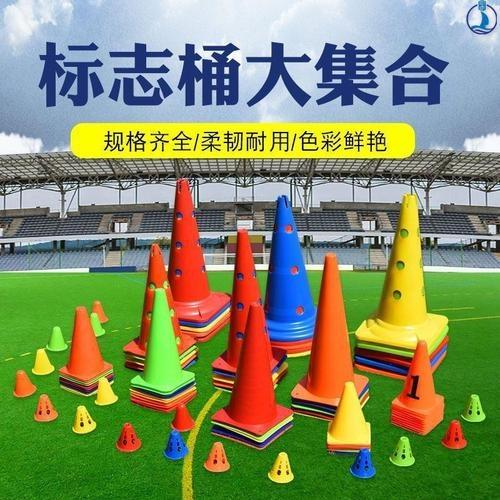cone_barrel: (358, 188, 448, 371), (296, 248, 360, 410), (223, 299, 286, 445), (260, 195, 318, 344), (162, 177, 215, 315), (133, 288, 190, 387), (390, 339, 442, 411), (58, 306, 109, 376), (326, 381, 370, 442), (346, 446, 379, 480), (437, 414, 469, 449), (42, 322, 67, 365), (202, 438, 231, 475), (387, 432, 415, 466), (266, 450, 294, 484), (161, 427, 188, 462), (458, 391, 486, 423), (69, 403, 96, 435), (115, 420, 141, 453), (29, 344, 55, 375), (11, 366, 36, 397), (31, 392, 57, 420)
